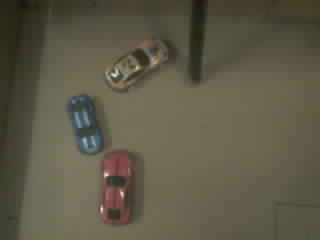Car: (107, 40, 167, 90), (100, 150, 133, 224), (68, 96, 100, 151)
